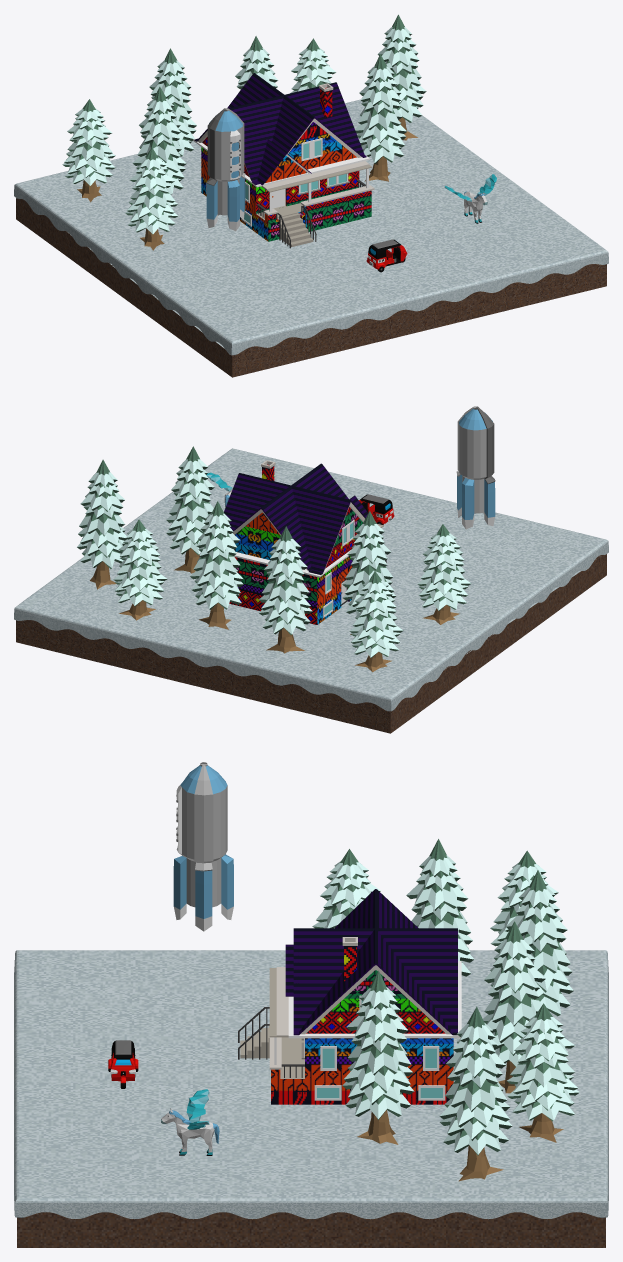
3 views of the same model, one above another, from view 1: azimuth 30°, elevation 25°; view 2: azimuth 150°, elevation 25°; view 3: azimuth 270°, elevation 25° (orthographic). The views are drawn at different scales.
Visible parts, largest first — view 1: Cube.003, Cube.966, OBJRANDOM_ROCKETSHIP, VEHICLES_TUC_TUC, ANIMAL_PEGASO; view 2: Cube.003, Cube.966, OBJRANDOM_ROCKETSHIP, VEHICLES_TUC_TUC; view 3: Cube.003, Cube.966, OBJRANDOM_ROCKETSHIP, ANIMAL_PEGASO, VEHICLES_TUC_TUC.
Part boxes in pixels (x1,y1,x2,y2): Cube.003: (14, 14, 608, 377); Cube.966: (193, 73, 374, 248); OBJRANDOM_ROCKETSHIP: (206, 108, 245, 231); VEHICLES_TUC_TUC: (366, 239, 407, 272); ANIMAL_PEGASO: (444, 174, 496, 223); Cube.003: (14, 446, 608, 733); Cube.966: (224, 460, 386, 624); OBJRANDOM_ROCKETSHIP: (456, 406, 495, 529); VEHICLES_TUC_TUC: (359, 494, 394, 524); Cube.003: (14, 839, 608, 1247); Cube.966: (238, 889, 461, 1104); OBJRANDOM_ROCKETSHIP: (173, 762, 233, 931); ANIMAL_PEGASO: (161, 1089, 219, 1155); VEHICLES_TUC_TUC: (108, 1040, 138, 1088).
Size of the model in its own units: 4040 by 2124 by 4040.
40 materials, 7 textured.
